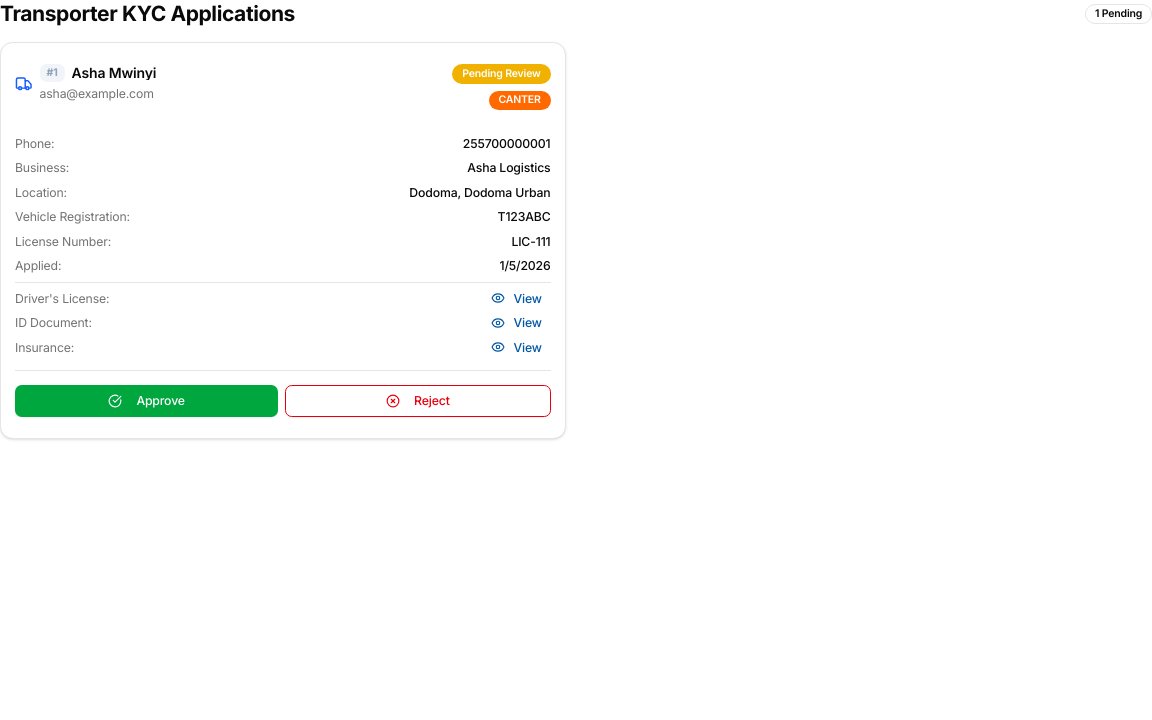
it: TransporterKYCApprovalTab › rejecting › disables confirm until a reason is typed, then submits it
Step 1. Click the button "Reject" → (418, 401), box [285,385,551,416]
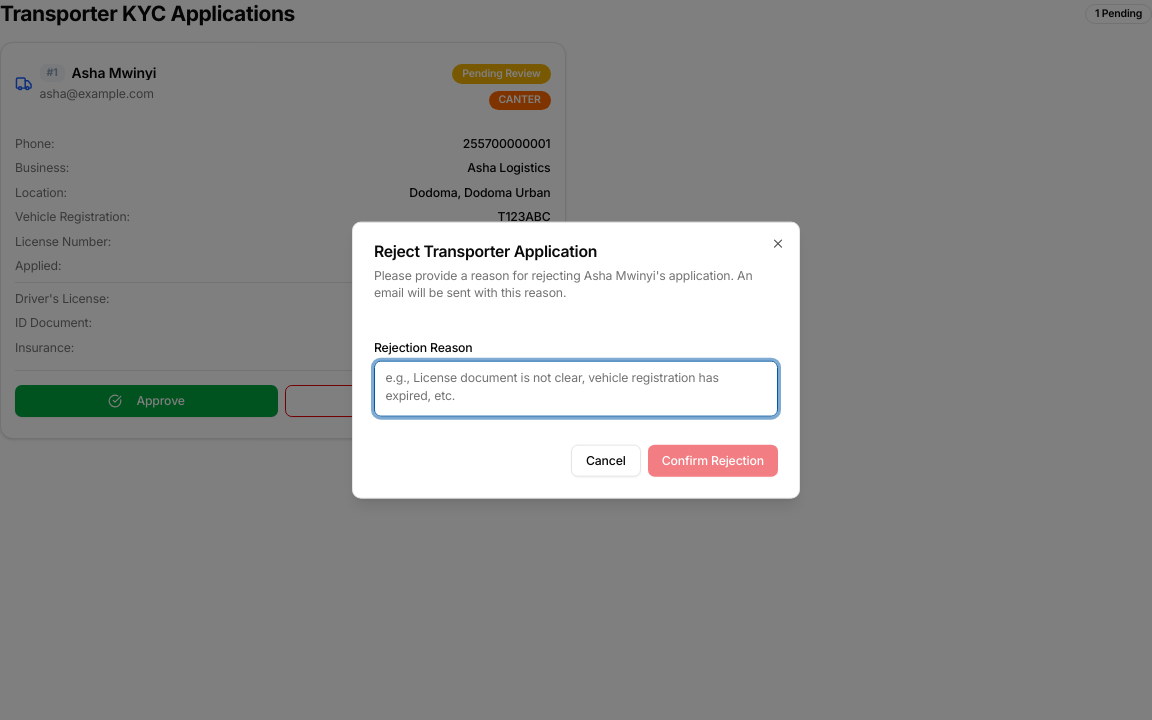
Now the button "Confirm Rejection" is disabled, box [648,445,778,476]
Step 2. Type "Expired license" into the text box labelled "Rejection Reason" → (576, 389), box [374,361,778,417]
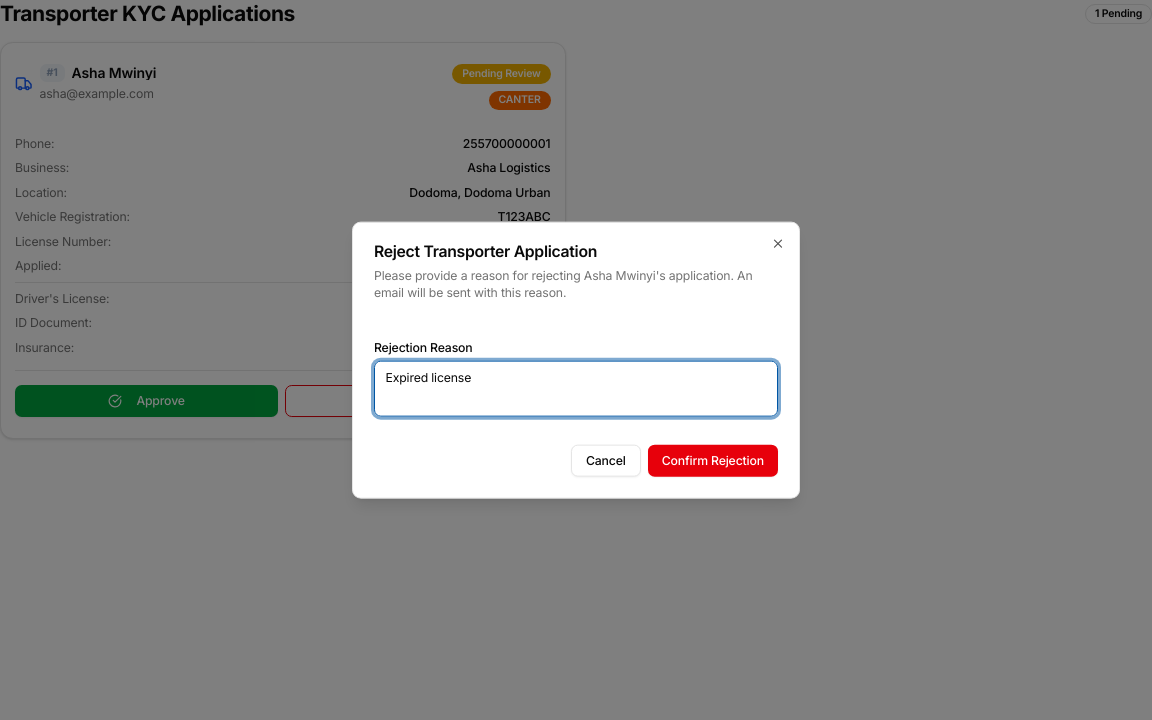
Step 3. Click the button "Confirm Rejection" → (713, 461), box [648,445,778,476]
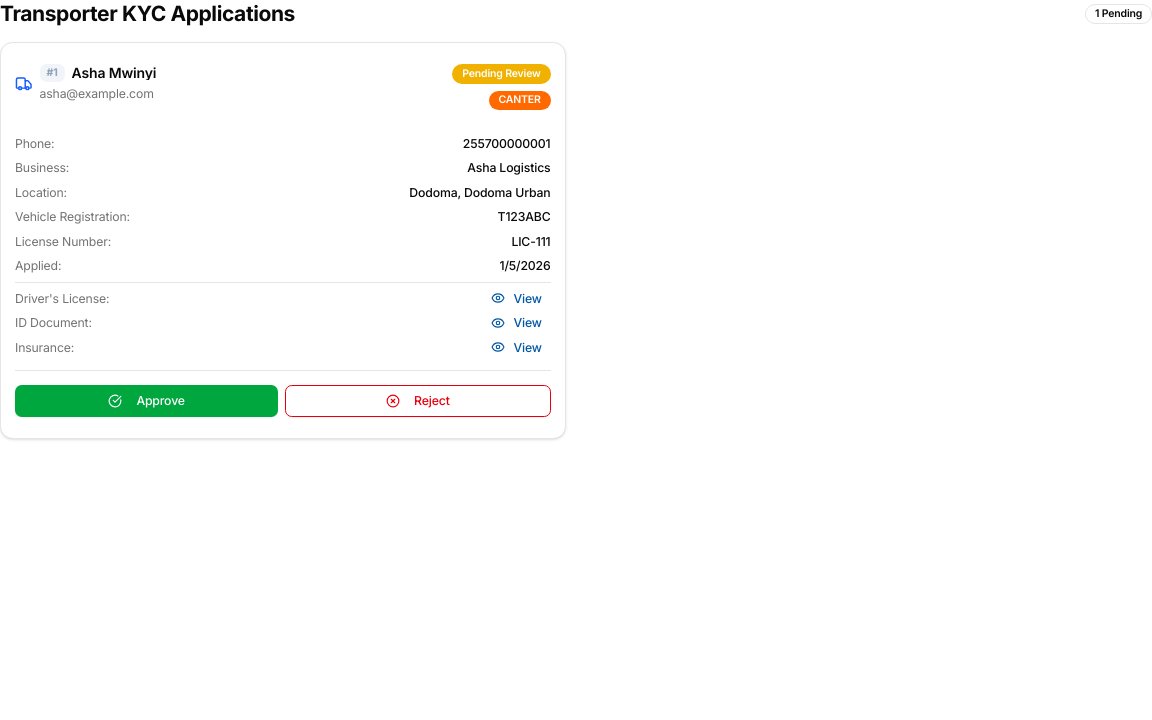
Now the dialog is gone
